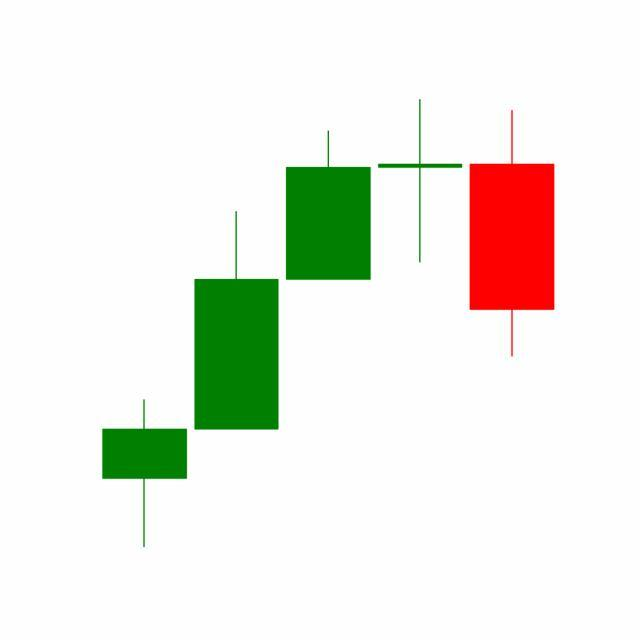Spinning Top: (374, 98, 468, 265)
